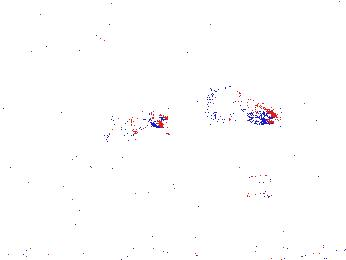flame jellyfish: (95, 110, 170, 161), (201, 81, 277, 127), (246, 158, 319, 202)
